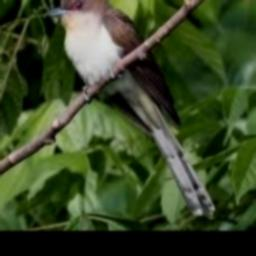Cuckoo: (46, 0, 216, 220)
